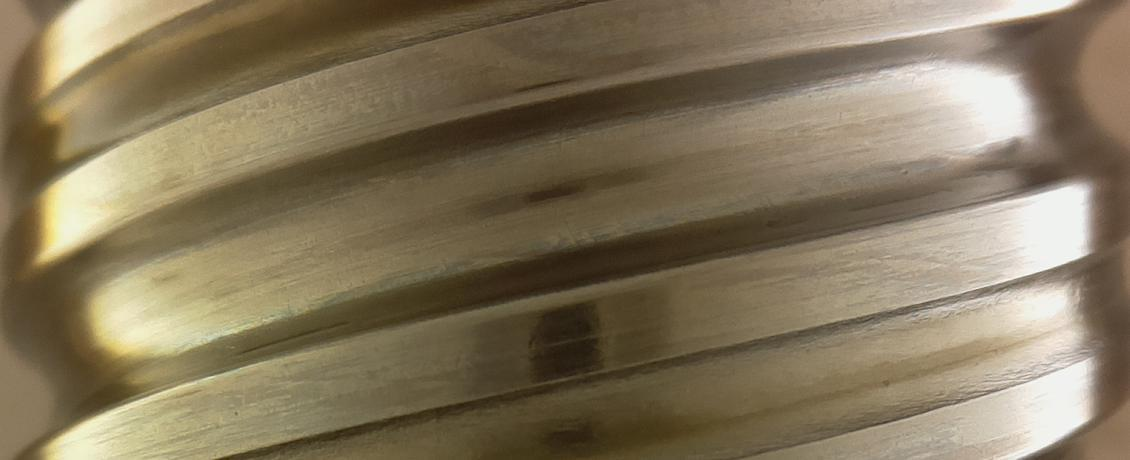pitting: (767, 219, 781, 227)
